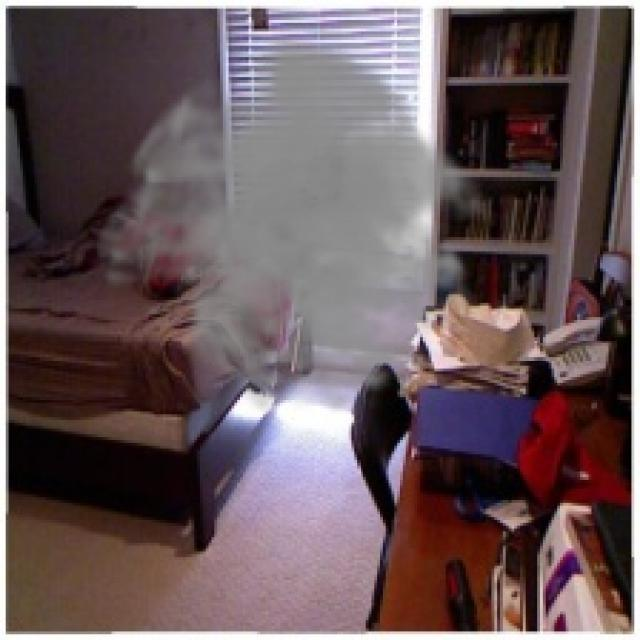Smoke: (88, 32, 506, 414)
